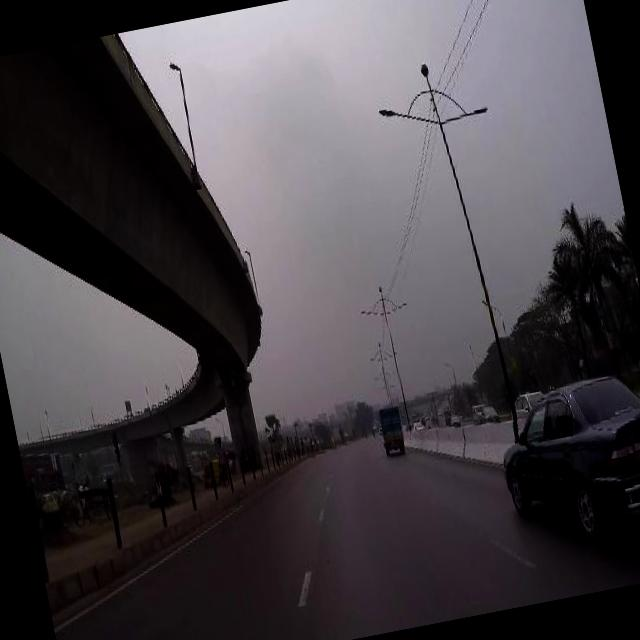bus: (442, 406, 453, 424)
car: (485, 363, 640, 555), (506, 388, 546, 417), (478, 402, 499, 424)
truck: (375, 404, 407, 458), (468, 400, 488, 422)
